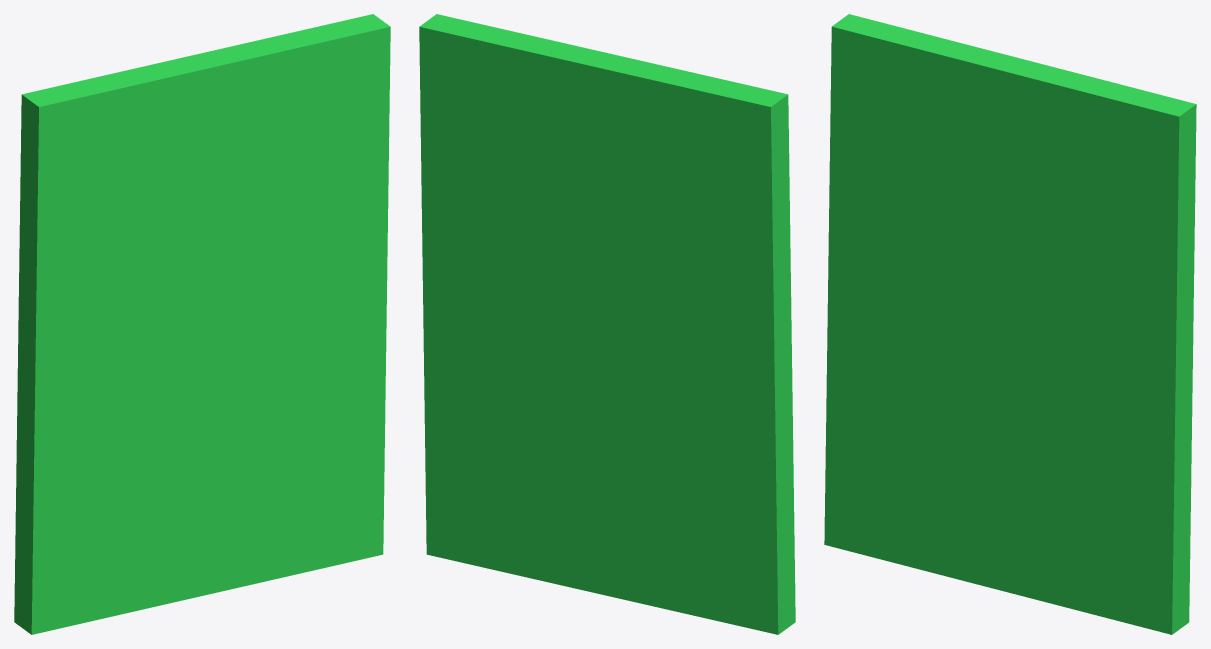
File: Paper_On_Fridge.fbx
The picture shows the model from 3 angles, left to right: view 1: azimuth 30°, elevation 25°; view 2: azimuth 150°, elevation 25°; view 3: azimuth 330°, elevation 25°; orthographic projection.
Parts seen in each view (by area): view 1: Cube.068; view 2: Cube.068; view 3: Cube.068.
Boxes of the visible parts, x1,y1,x2,y2 form: Cube.068: [14, 14, 390, 634]; Cube.068: [419, 14, 795, 634]; Cube.068: [824, 14, 1196, 634].
Size of the model in its own units: 22.14 by 31.31 by 1.86.
